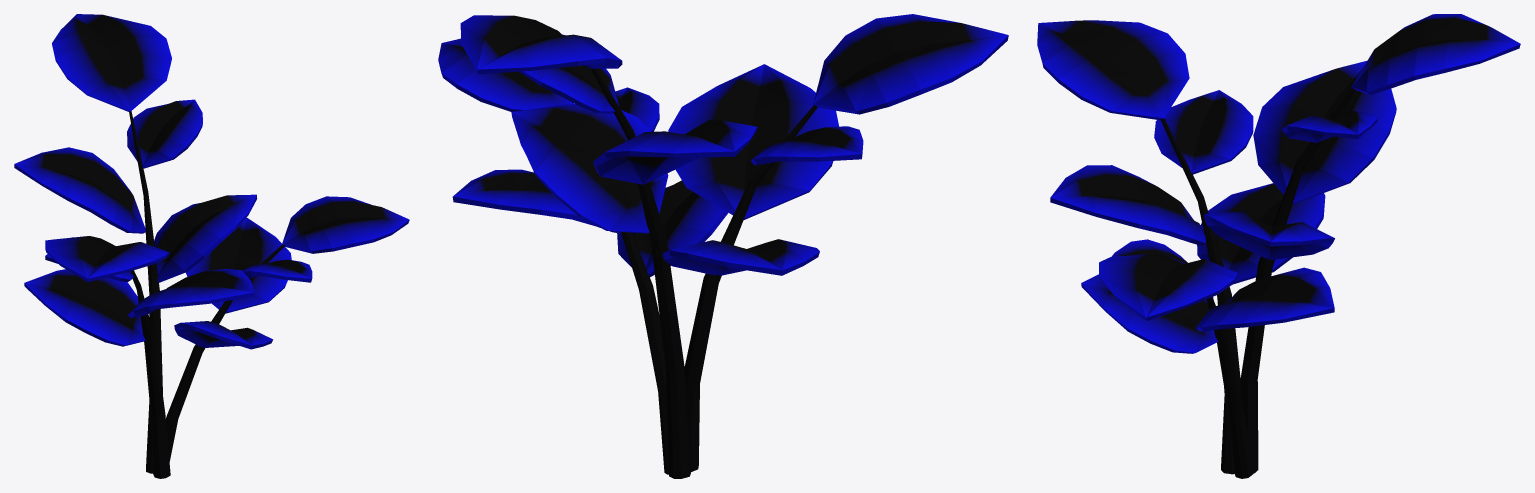
File: SM_Foliage_03.fbx
The picture shows the model from 3 angles, left to right: view 1: azimuth 30°, elevation 25°; view 2: azimuth 150°, elevation 25°; view 3: azimuth 270°, elevation 25°; orthographic projection. The views are drawn at different scales.
Parts seen in each view (by area): view 1: SM_Foliage_03; view 2: SM_Foliage_03; view 3: SM_Foliage_03.
Boxes of the visible parts, x1,y1,x2,y2 form: SM_Foliage_03: [14, 14, 409, 478]; SM_Foliage_03: [438, 14, 1008, 478]; SM_Foliage_03: [1037, 14, 1520, 478].
Bounding box in the file's own units: 38.97 × 36.05 × 37.8.
